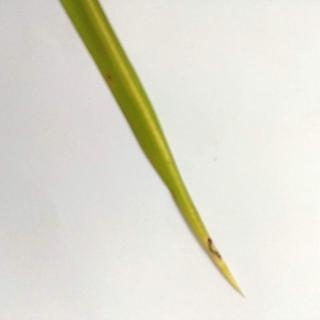Blast: (191, 207, 250, 299)
